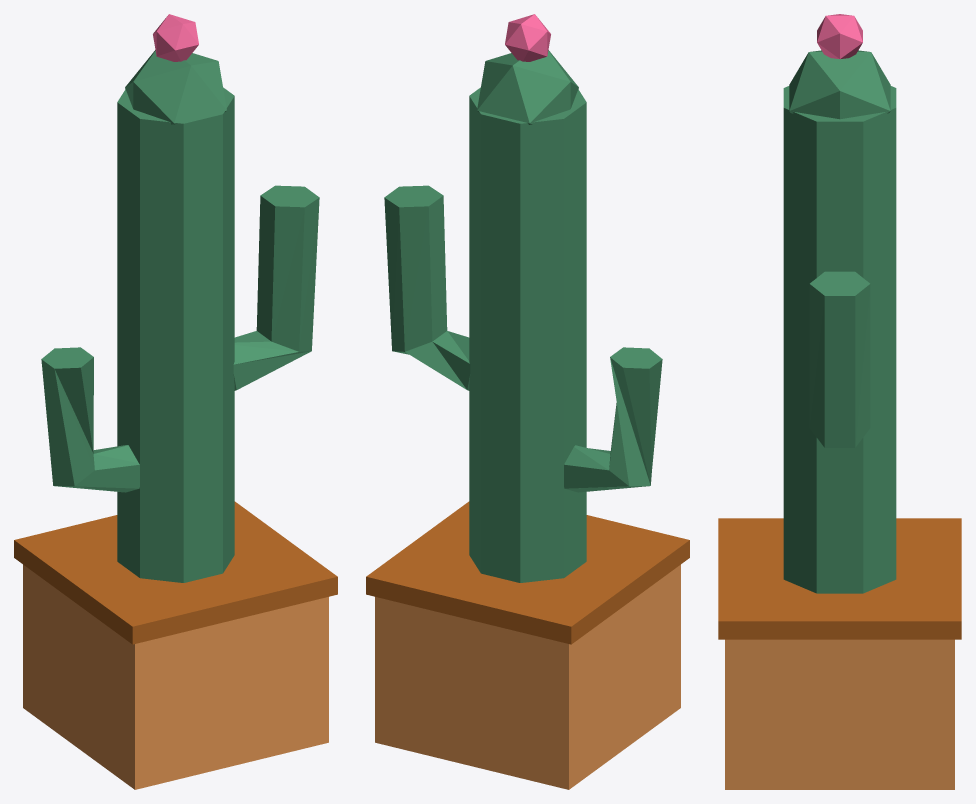
File: cactus.a6688d692376.glb
3 renders of one model, left to right at view 1: azimuth 30°, elevation 25°; view 2: azimuth 150°, elevation 25°; view 3: azimuth 270°, elevation 25°, orthographic. The views are drawn at different scales.
Visible parts, largest first — view 1: cactus; view 2: cactus; view 3: cactus.
Boxes of the visible parts, x1=… form: cactus: x1=14, y1=14, x2=337, y2=789; cactus: x1=366, y1=14, x2=689, y2=789; cactus: x1=718, y1=14, x2=961, y2=789.
Size of the model in its own units: 0.4635 by 1.18 by 0.36.
